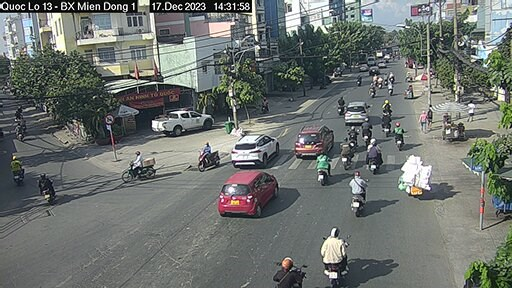car: (217, 173, 283, 215), (150, 106, 217, 136), (231, 133, 284, 169), (294, 126, 334, 158), (341, 101, 369, 124), (368, 65, 380, 76)
motorbike: (119, 149, 159, 183), (324, 223, 347, 280), (191, 148, 225, 174), (317, 152, 336, 187), (37, 172, 57, 203), (352, 174, 366, 214), (365, 146, 381, 171), (339, 141, 351, 166), (395, 125, 406, 152)
